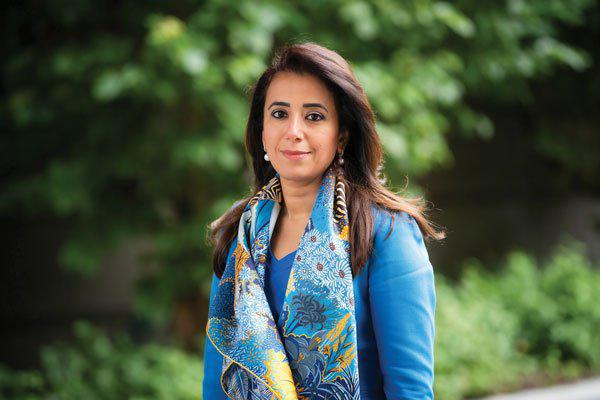Sober: (264, 83, 333, 174)
